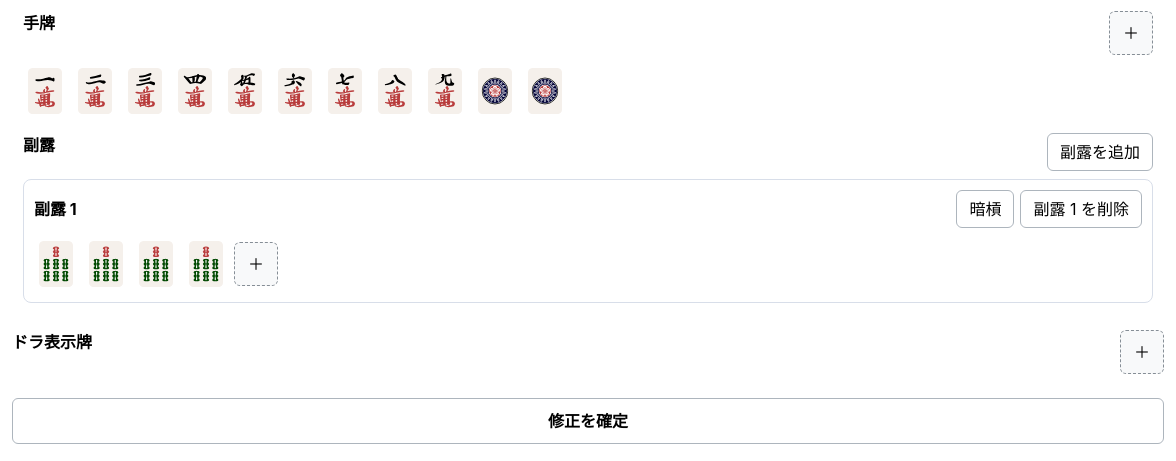
Scenario: TileCorrectionEditor › shows every four-equal kan openness explicitly and lets the user flip it
Click the button with aria-label "副露 1 槓種別 暗槓" at (985, 209), box [956,190,1014,228]
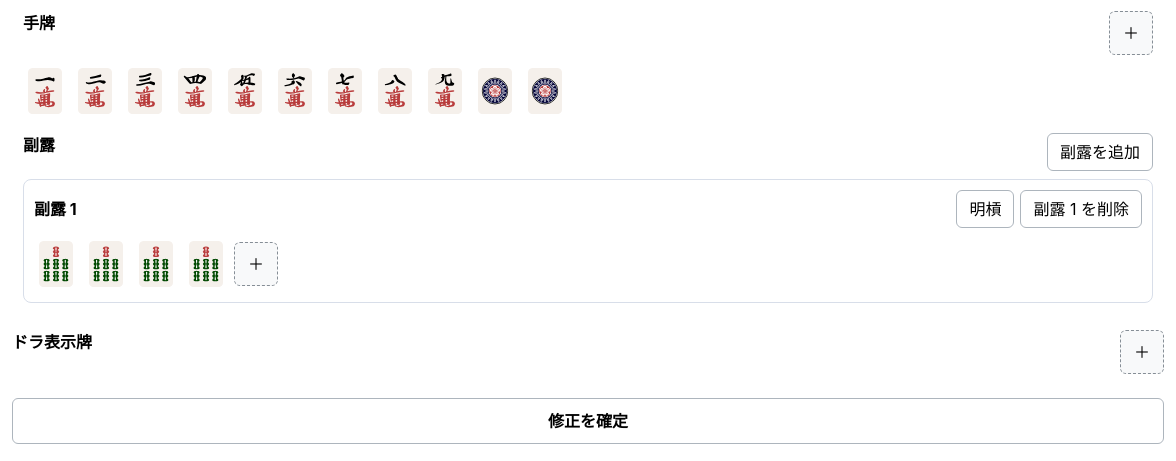
Result: the button with aria-label "副露 1 槓種別 明槓" is shown at [956,190,1014,228]
